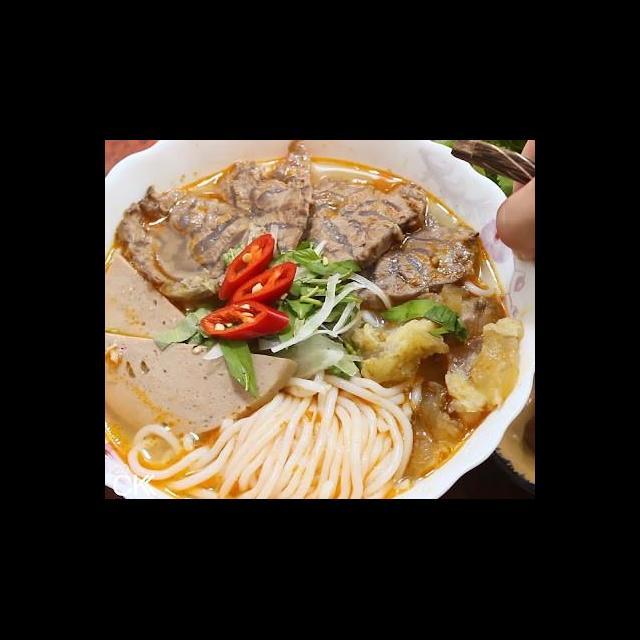bun: (119, 364, 428, 500)
bun bo: (126, 162, 501, 484)
thit bo: (112, 180, 269, 302), (295, 168, 432, 280), (207, 142, 318, 268), (345, 214, 484, 314)
